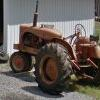Tractor: (11, 10, 100, 100)
